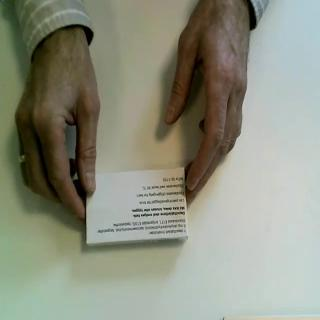oxycontin5mg: (86, 166, 190, 248)
